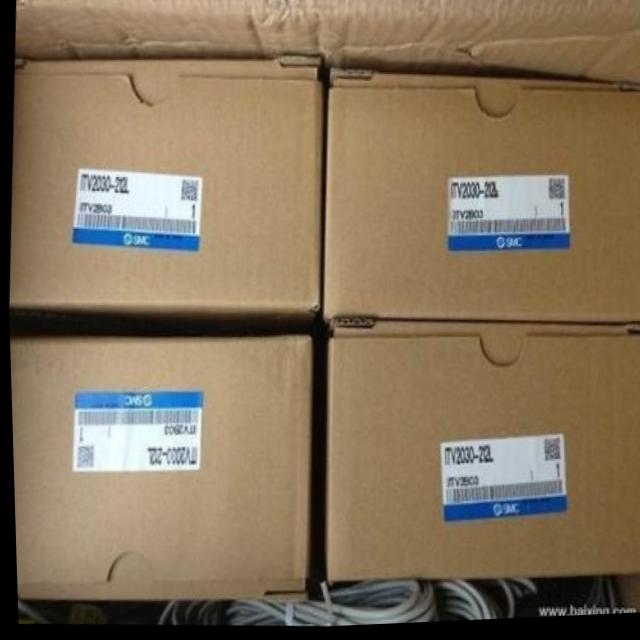box: (7, 59, 325, 325), (324, 323, 640, 586), (319, 71, 640, 329), (8, 335, 309, 599)
